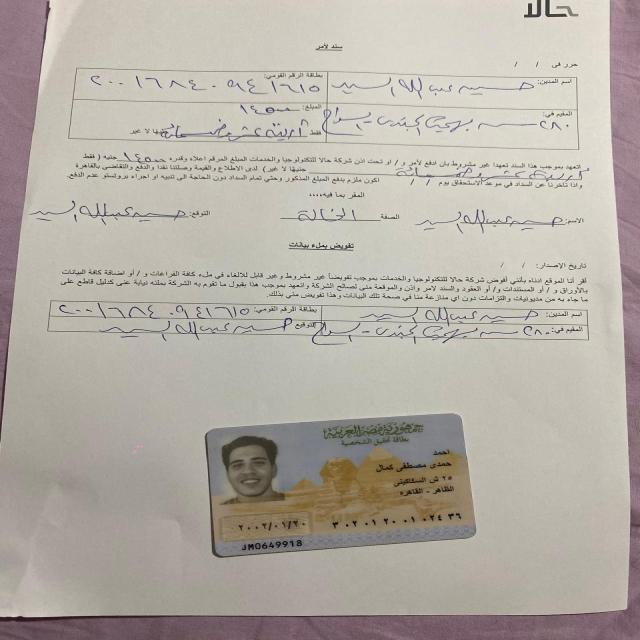id_card: (200, 409, 487, 565)
